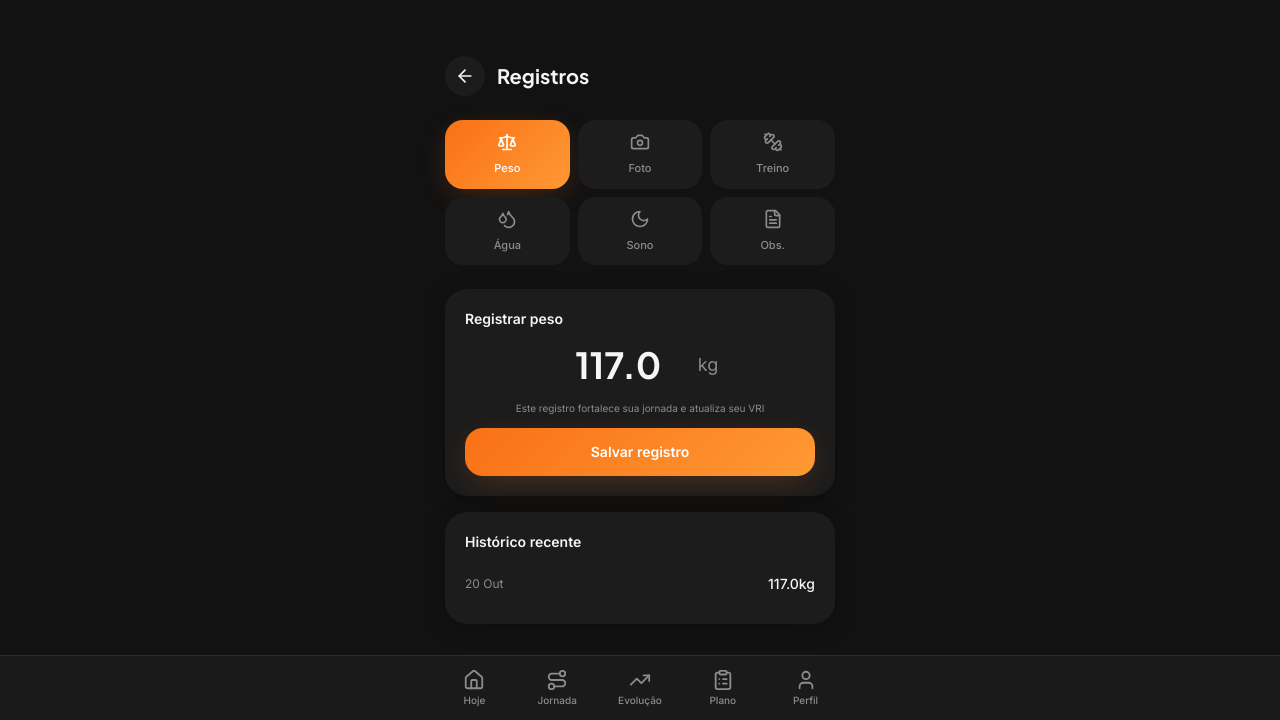
Test: Registrar peso — conferência antes de salvar (PDF do Ernâni, tela 03) › 'Corrigir' fecha o aviso sem gravar
Replace the text in the number field with placeholder "0.0" with "108": (626, 365) [562, 345, 690, 385]
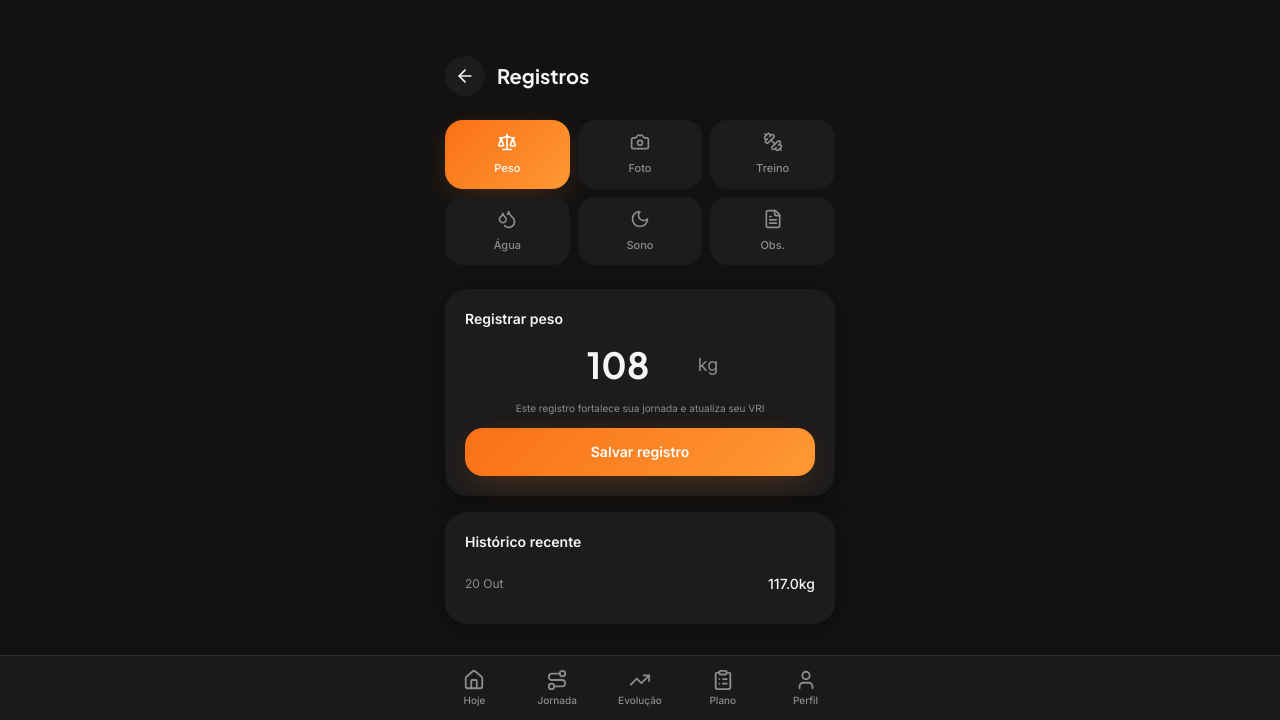
Click the button "Salvar registro": (640, 452) [465, 428, 815, 476]
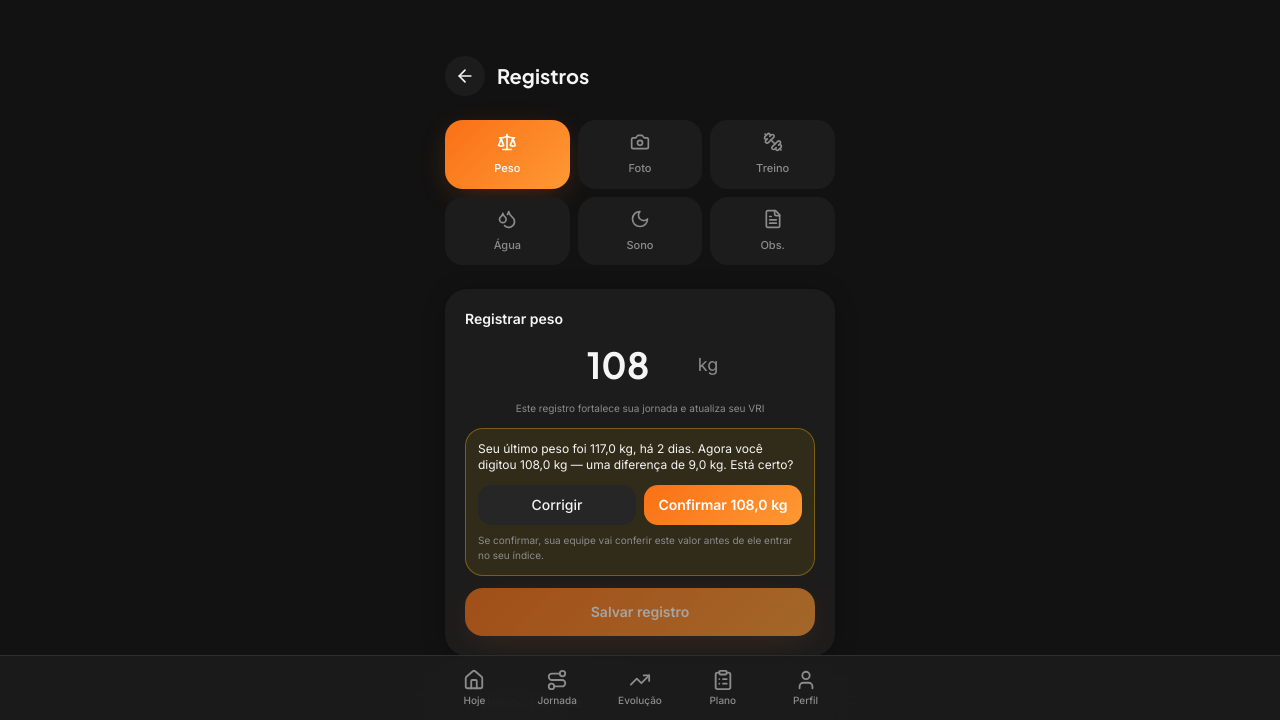
Click the button "Corrigir": (557, 505) [478, 485, 636, 525]
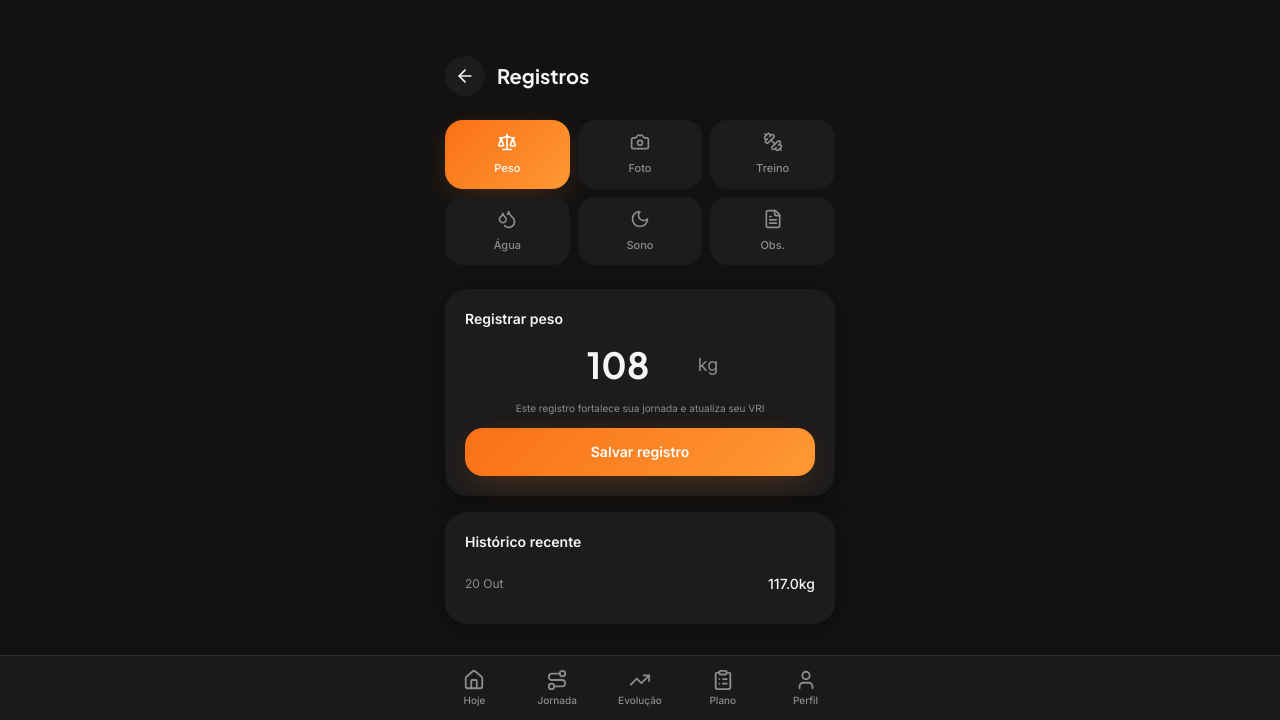
Expected: the dialog is gone
